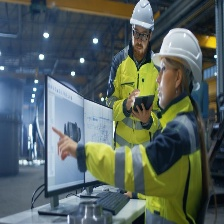helmet: (151, 27, 205, 89), (128, 2, 157, 32)
person: (152, 27, 209, 224), (108, 2, 159, 152)
vest: (155, 103, 204, 224), (114, 46, 159, 155)
